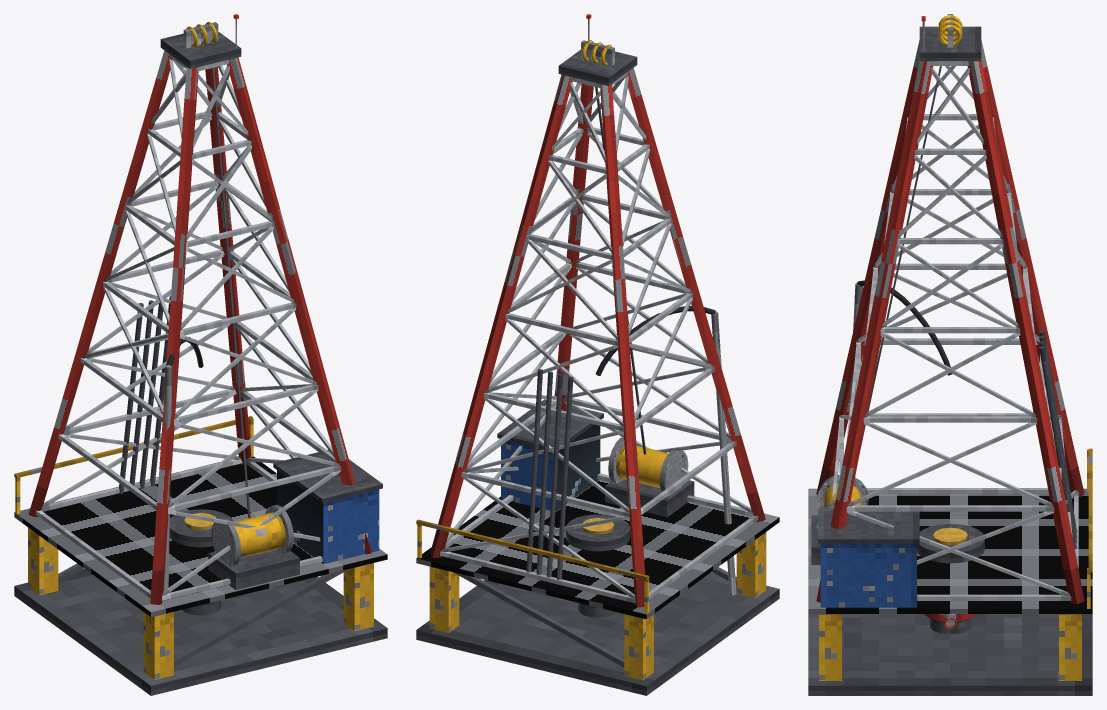
The model's file is oil_derrick.obj.
The picture shows the model from 3 angles, left to right: view 1: azimuth 30°, elevation 25°; view 2: azimuth 150°, elevation 25°; view 3: azimuth 270°, elevation 25°; orthographic projection. The views are drawn at different scales.
Bounding box in the file's own units: 2.96 × 7.24 × 2.96.
